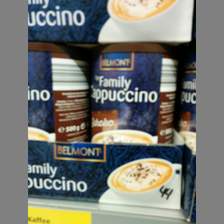coffee: (90, 44, 177, 143), (29, 42, 90, 141)
